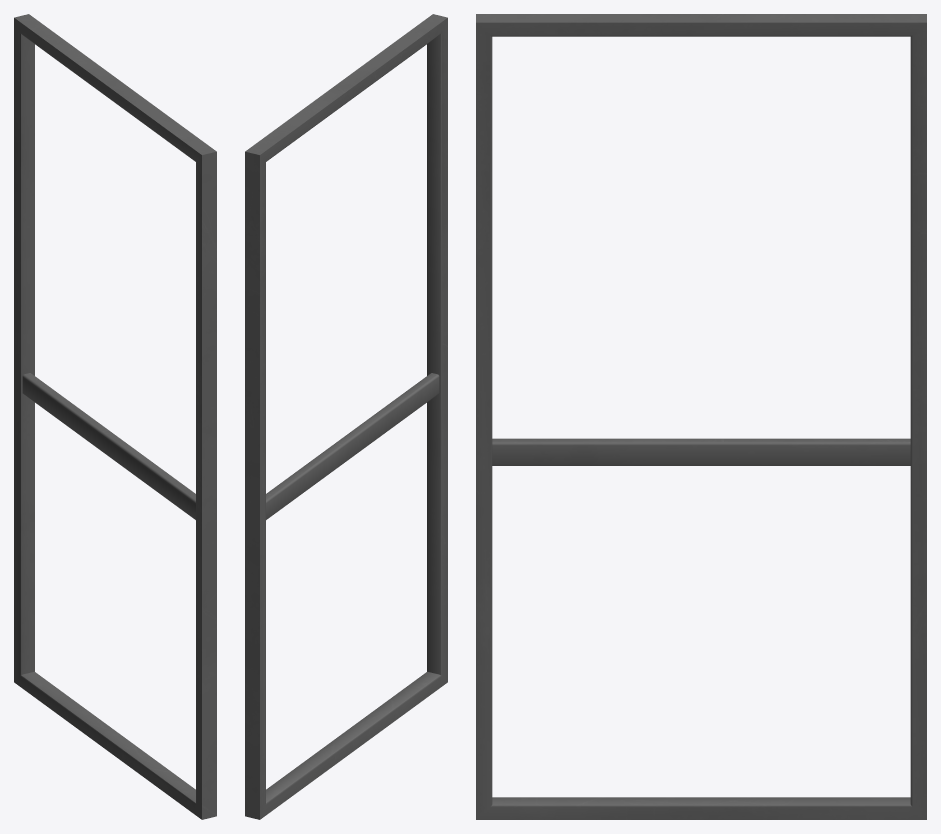
The model's file is doorBalconyRight1.gltf.
The picture shows the model from 3 angles, left to right: view 1: azimuth 30°, elevation 25°; view 2: azimuth 150°, elevation 25°; view 3: azimuth 270°, elevation 25°; orthographic projection. The views are drawn at different scales.
Visible parts, largest first — view 1: doorBalconyLeft; view 2: doorBalconyLeft; view 3: doorBalconyLeft.
Part boxes in pixels (bbox=[...]): doorBalconyLeft: bbox=[14, 14, 216, 819]; doorBalconyLeft: bbox=[245, 14, 447, 819]; doorBalconyLeft: bbox=[476, 14, 926, 819].
Size of the model in its own units: 0.0383 by 1.64 by 0.8408.
Materials: 1 (1 with a texture image).
